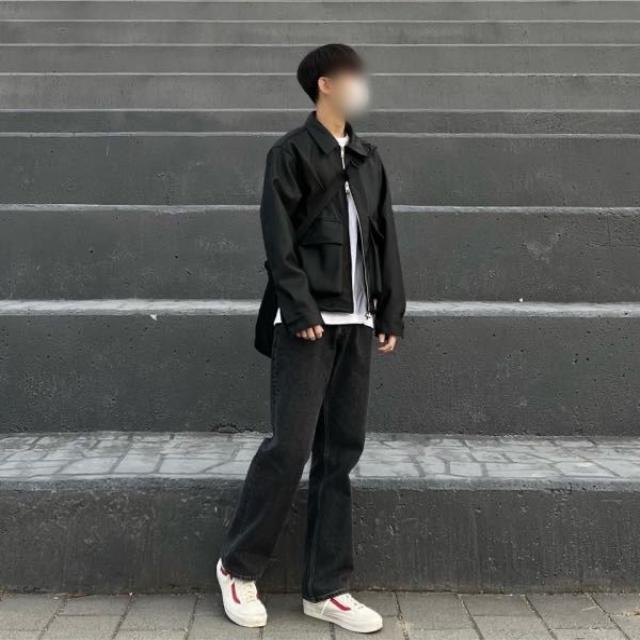denimpants: (216, 300, 374, 596)
jacket: (265, 115, 413, 340)
